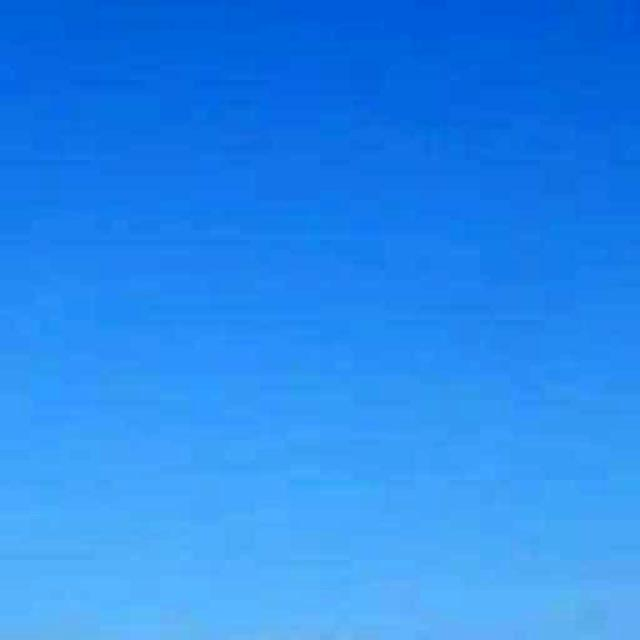drone: (505, 501, 569, 579)
